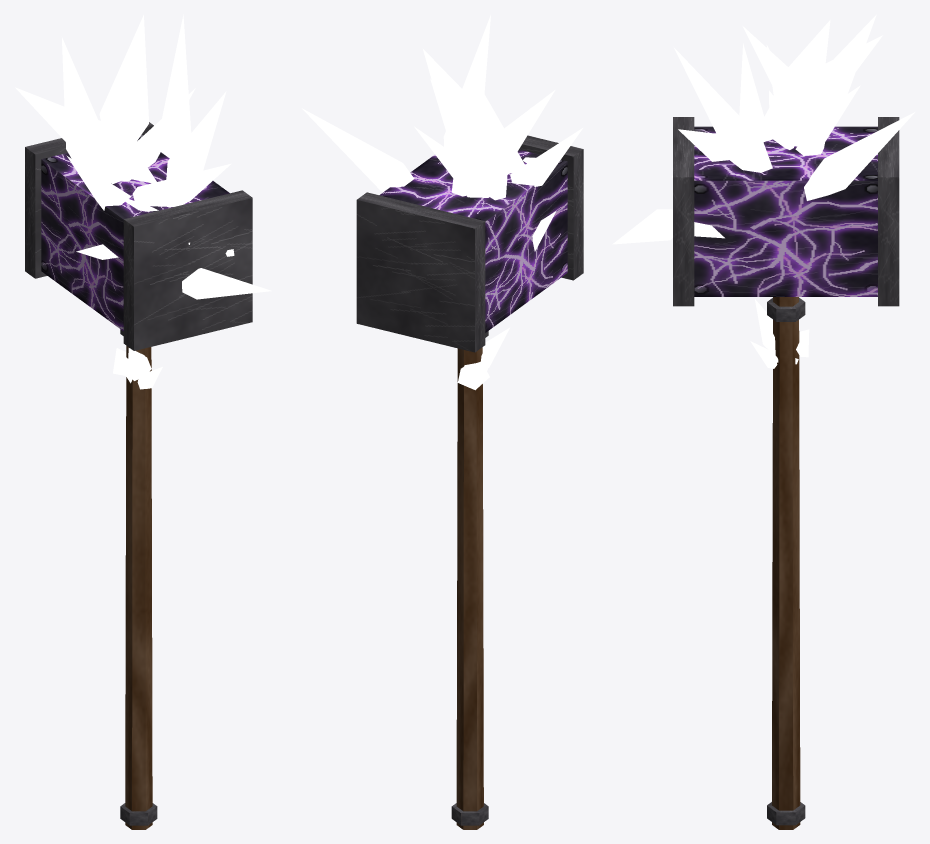
The model's file is CrystalMaul.fbx.
3 views of the same model, side by side, from view 1: azimuth 30°, elevation 25°; view 2: azimuth 150°, elevation 25°; view 3: azimuth 270°, elevation 25° (orthographic). The views are drawn at different scales.
Visible parts, largest first — view 1: Head, Glow, Handle; view 2: Head, Glow, Handle; view 3: Head, Glow, Handle.
Boxes of the visible parts, x1,y1,x2,y2 form: Head: [25, 122, 252, 350]; Glow: [15, 14, 271, 389]; Handle: [120, 329, 157, 829]; Head: [356, 135, 583, 352]; Glow: [302, 15, 582, 390]; Handle: [451, 331, 488, 829]; Head: [673, 117, 899, 306]; Glow: [612, 14, 914, 368]; Handle: [767, 297, 805, 829].
Size of the model in its own units: 169 by 634 by 213.
Materials: 2 (1 with a texture image).
